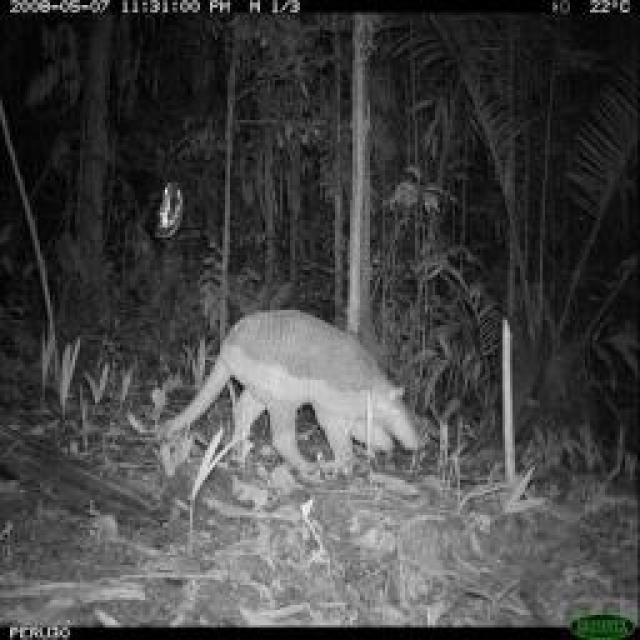pig: (155, 305, 425, 480)
